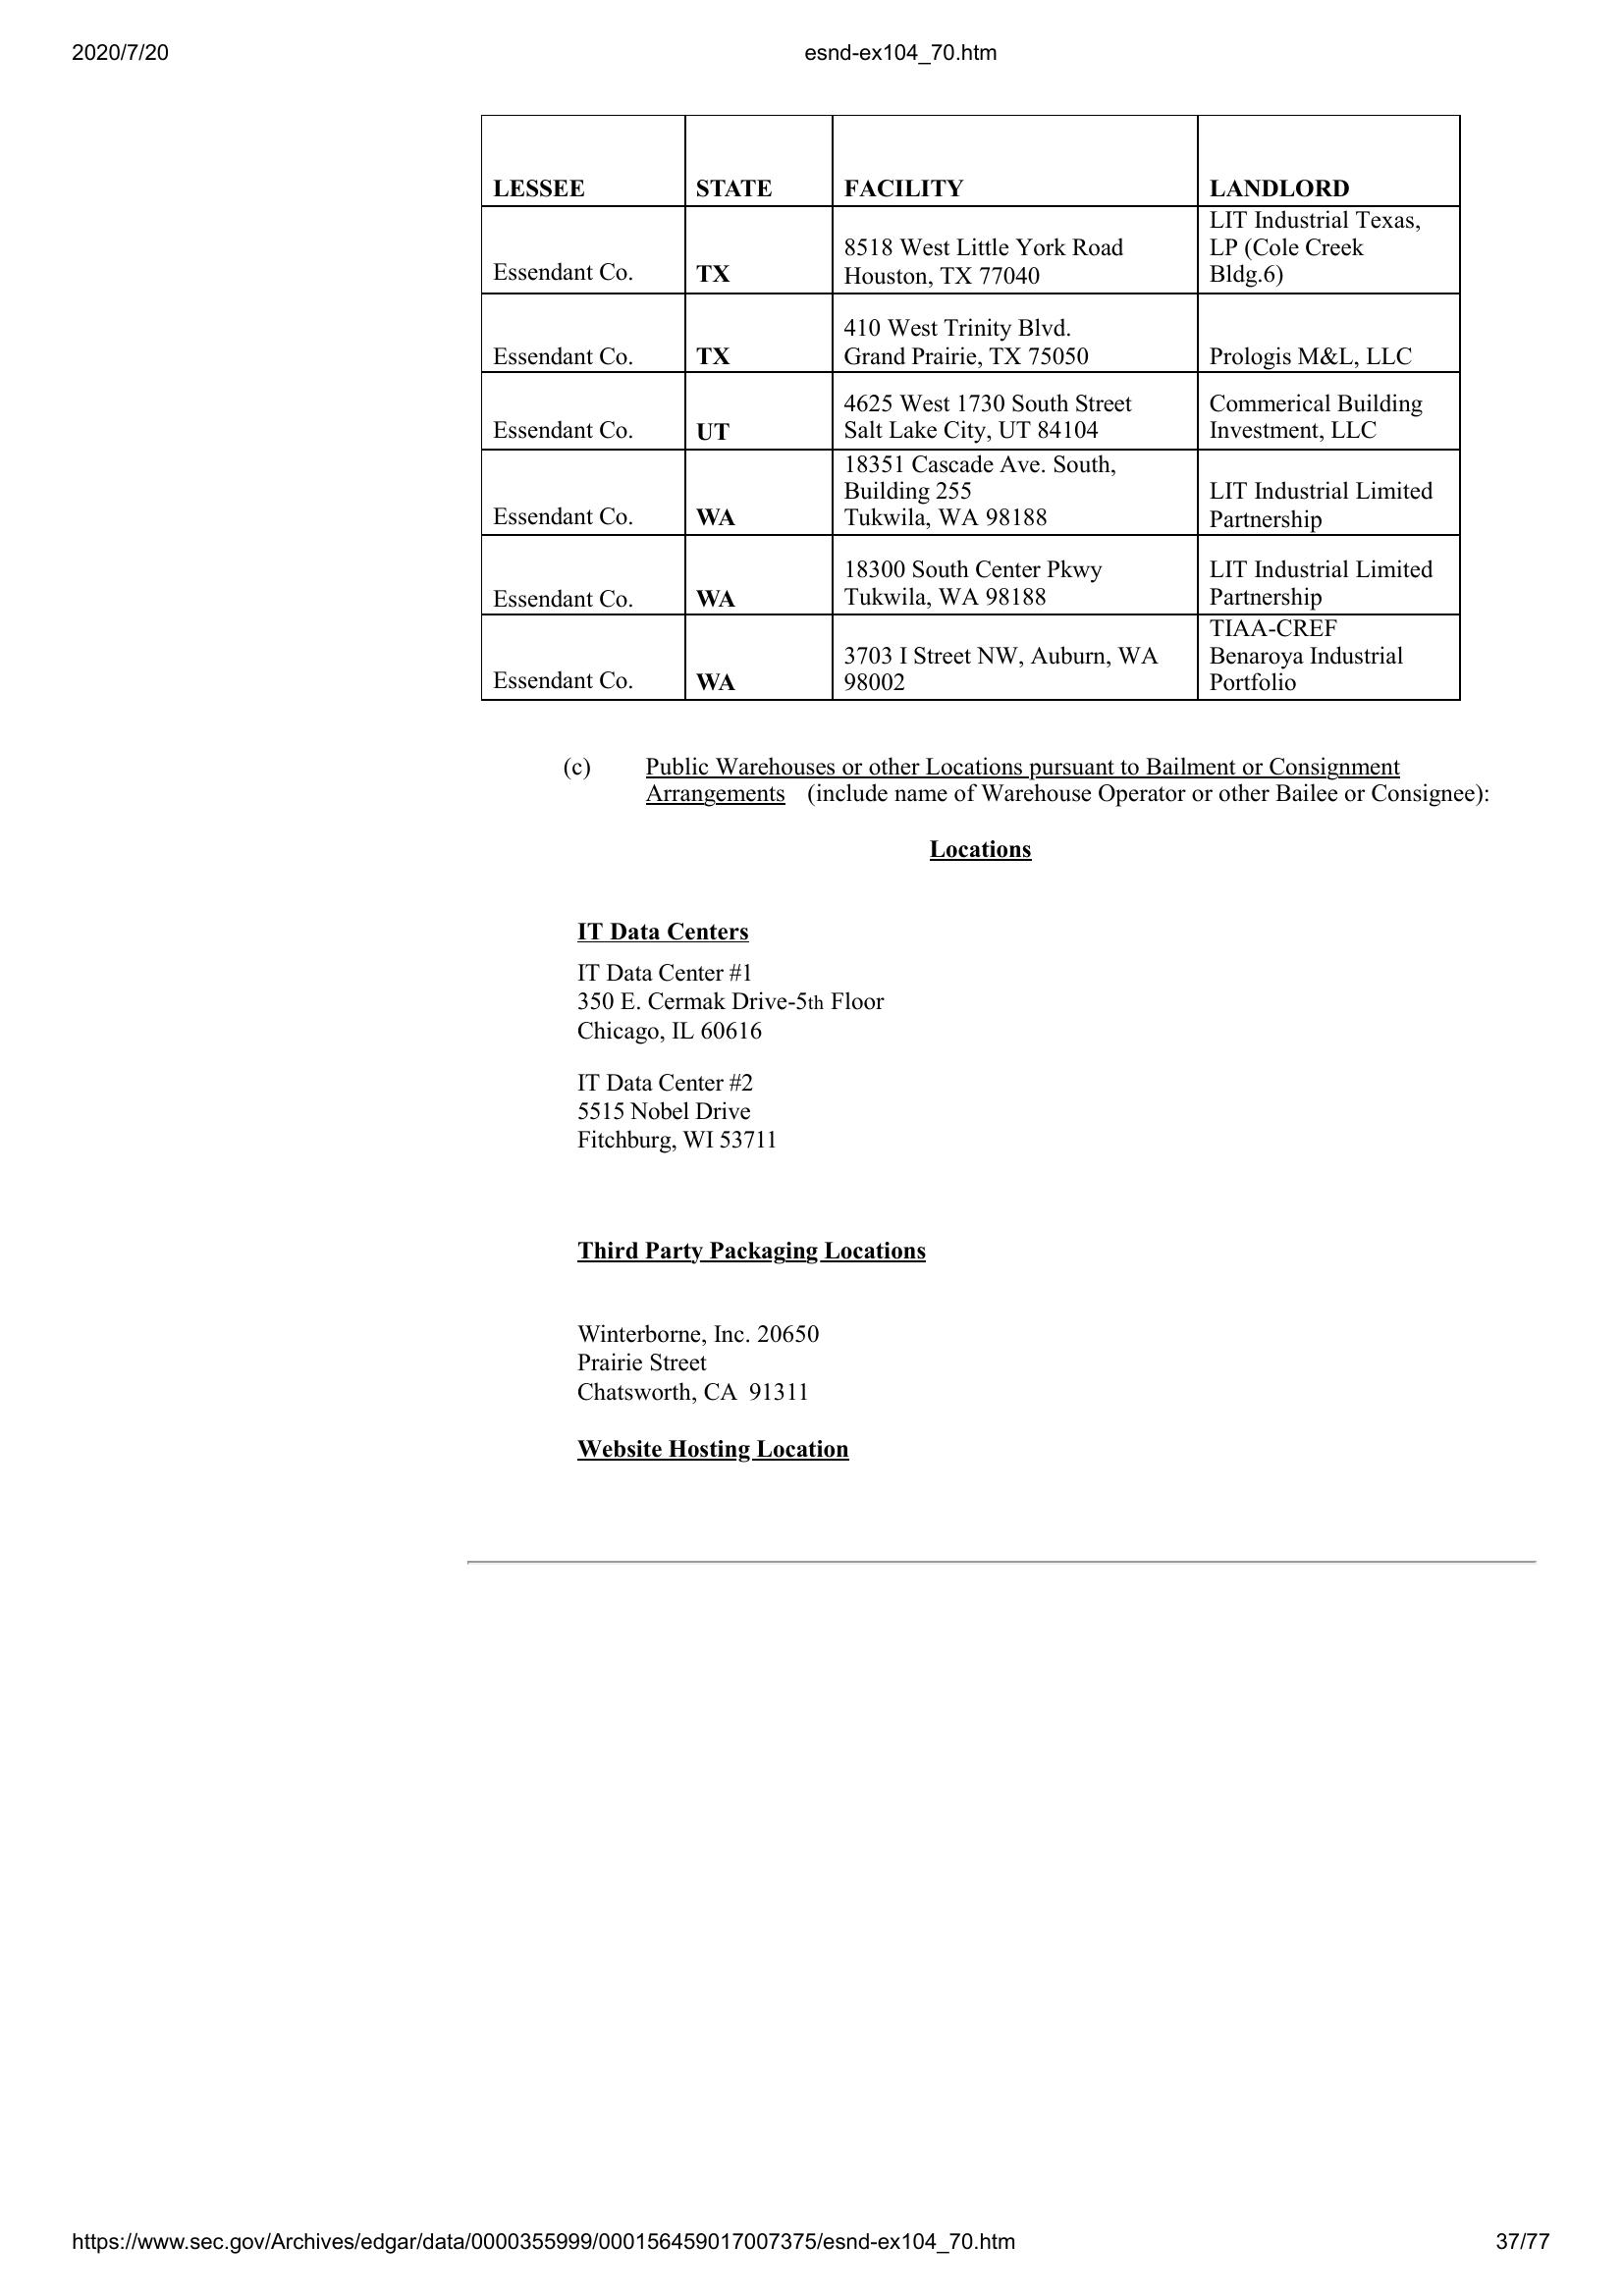table: (476, 109, 1467, 706)
